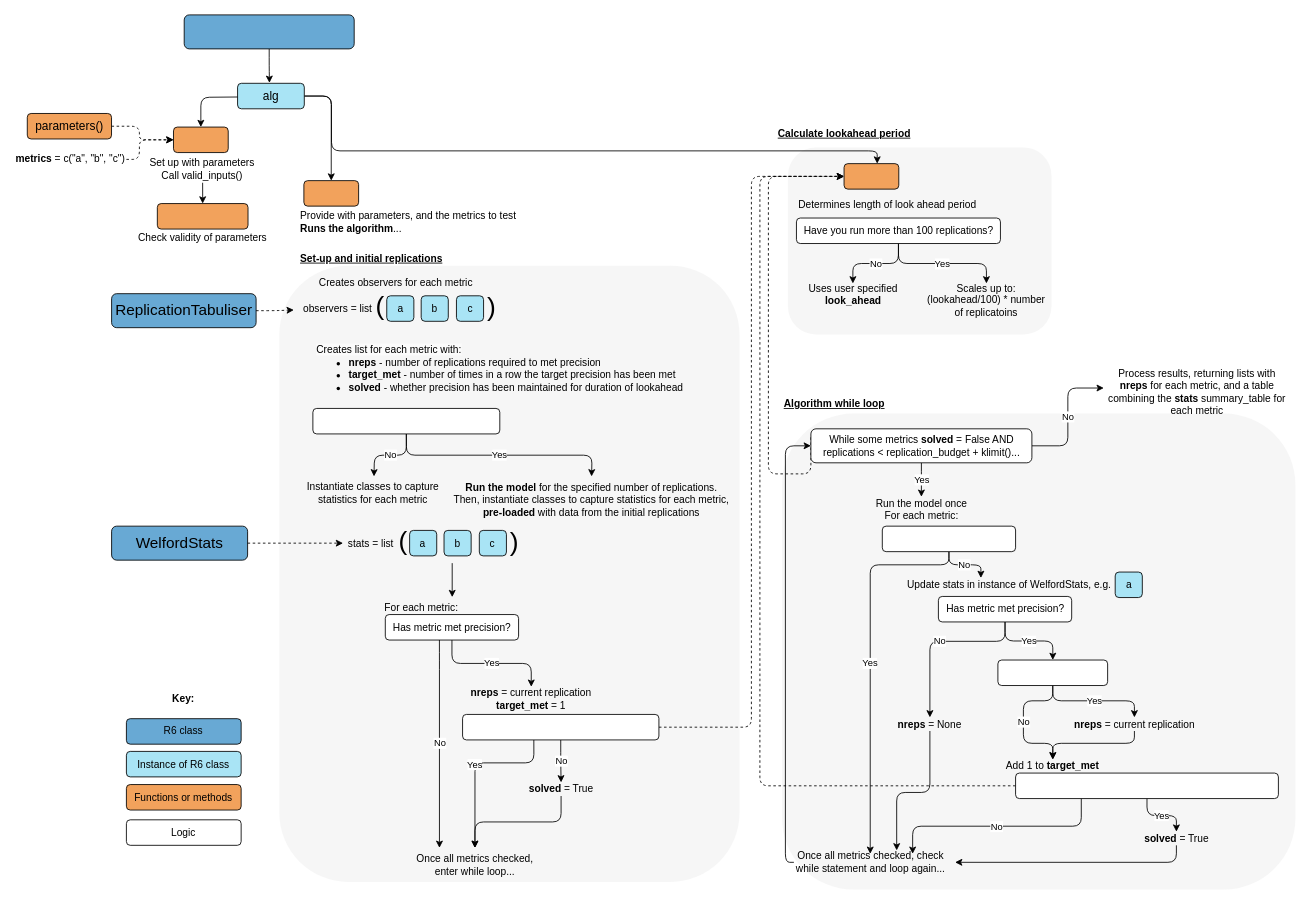
Some shapes in this 1310 by 904 pixel diagram are drawn without their labels. Each missing label, with the centre of its shape:
"Are there initial_replications to run?" goes at [406,421].
"Does target_met = 0?" goes at [1052,672].
"Has it passed lookahead (i.e. target_met > k_limit ())?" goes at [1146,785].
"Is solved = True?" goes at [948,538].
"Is there a lookahead (i.e. klimit > 0)?" goes at [560,727].
"klimit()" goes at [871,176].
"new()" goes at [200,139].
"ReplicationsAlgorithm" goes at [268,31].
"select()" goes at [331,193].
"valid_inputs()" goes at [202,216].
